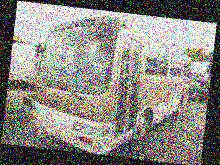bus: (26, 10, 197, 164), (187, 61, 212, 102)
